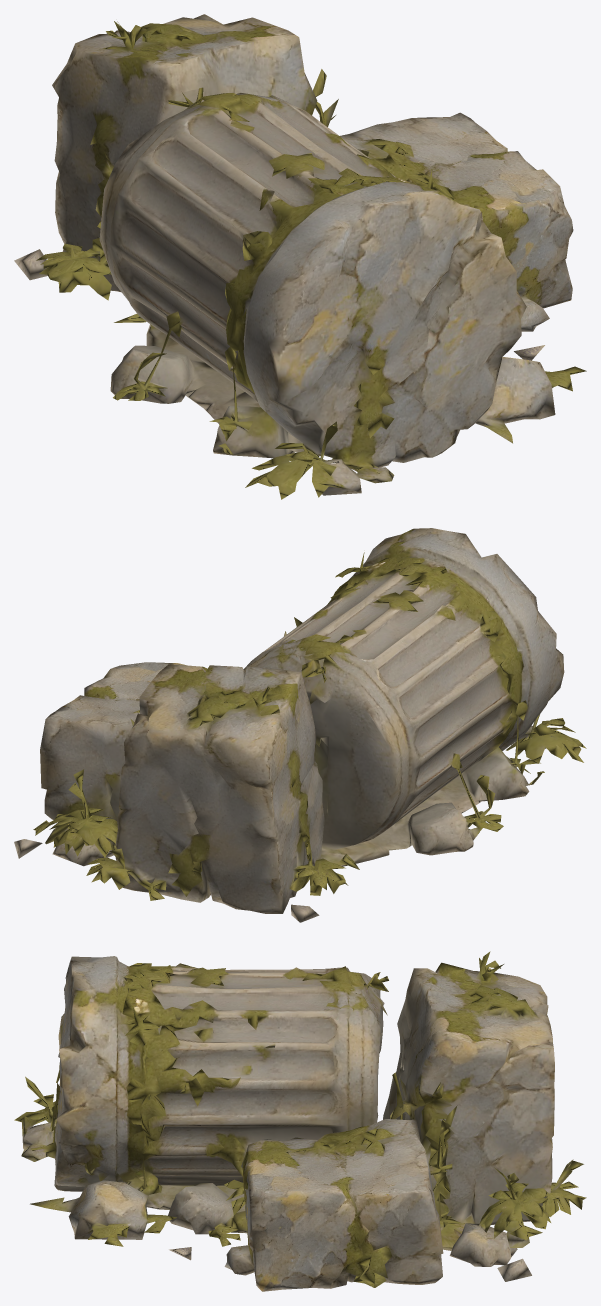
Rendered from raw.glb.
3 renders of one model, top to bottom at view 1: azimuth 30°, elevation 25°; view 2: azimuth 150°, elevation 25°; view 3: azimuth 270°, elevation 25°, orthographic. The views are drawn at different scales.
Visible parts, largest first — view 1: tripo_node_2304b0bd-16a5-483b-a402-f5a21c2898b1; view 2: tripo_node_2304b0bd-16a5-483b-a402-f5a21c2898b1; view 3: tripo_node_2304b0bd-16a5-483b-a402-f5a21c2898b1.
Boxes of the visible parts, bbox=[...] form: tripo_node_2304b0bd-16a5-483b-a402-f5a21c2898b1: bbox=[14, 14, 586, 499]; tripo_node_2304b0bd-16a5-483b-a402-f5a21c2898b1: bbox=[14, 528, 586, 922]; tripo_node_2304b0bd-16a5-483b-a402-f5a21c2898b1: bbox=[14, 951, 586, 1291].
Size of the model in its own units: 0.7689 by 0.4103 by 1.
1 material, 1 textured.
